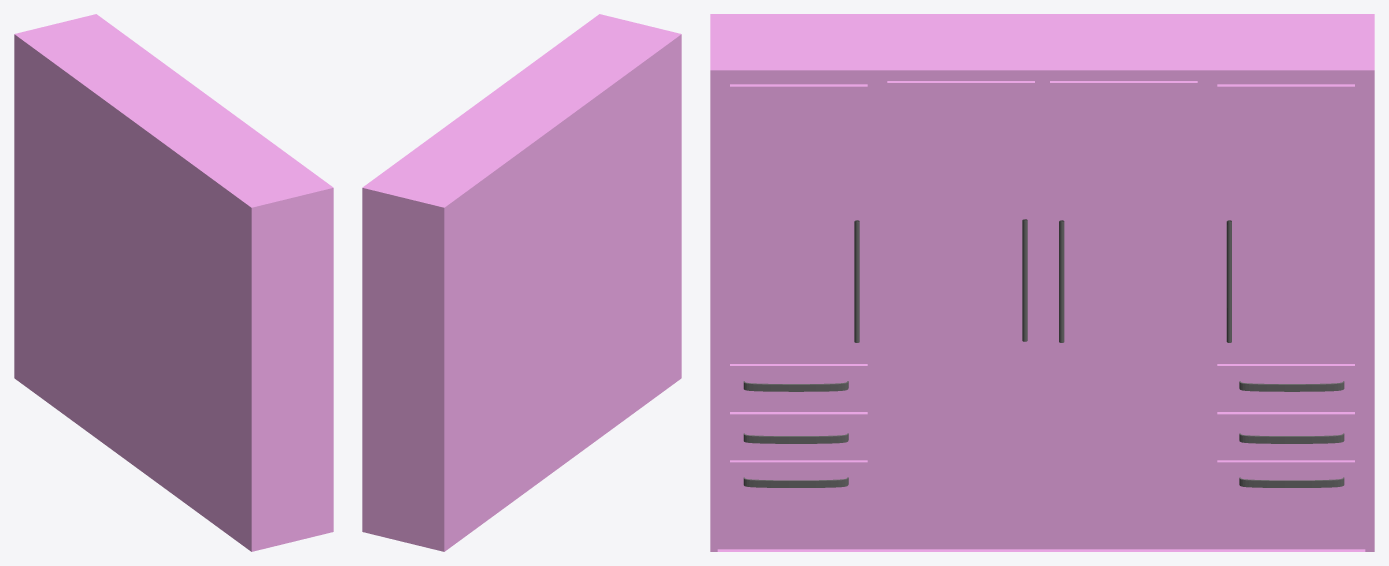
Rendered from ward4.glb.
3 renders of one model, left to right at view 1: azimuth 30°, elevation 25°; view 2: azimuth 150°, elevation 25°; view 3: azimuth 270°, elevation 25°, orthographic. The views are drawn at different scales.
Visible parts, largest first — view 1: Cube; view 2: Cube; view 3: Cube.005, Cube, Cube.002, NurbsCurve, NurbsCurve.003, NurbsCurve.001, NurbsCurve.004, NurbsCurve.005, NurbsCurve.002.
Boxes of the visible parts, box(x1,y1,x2,y2) form: Cube: box(14, 14, 333, 551); Cube: box(362, 14, 681, 551); Cube.005: box(710, 70, 1374, 515); Cube: box(710, 14, 1374, 551); Cube.002: box(710, 515, 1374, 551); NurbsCurve: box(743, 381, 848, 391); NurbsCurve.003: box(1239, 381, 1344, 391); NurbsCurve.001: box(743, 433, 848, 443); NurbsCurve.004: box(1239, 433, 1344, 443); NurbsCurve.005: box(1239, 477, 1344, 487); NurbsCurve.002: box(743, 477, 848, 487).
Bounding box in the file's own units: 55.98 × 200 × 250.
